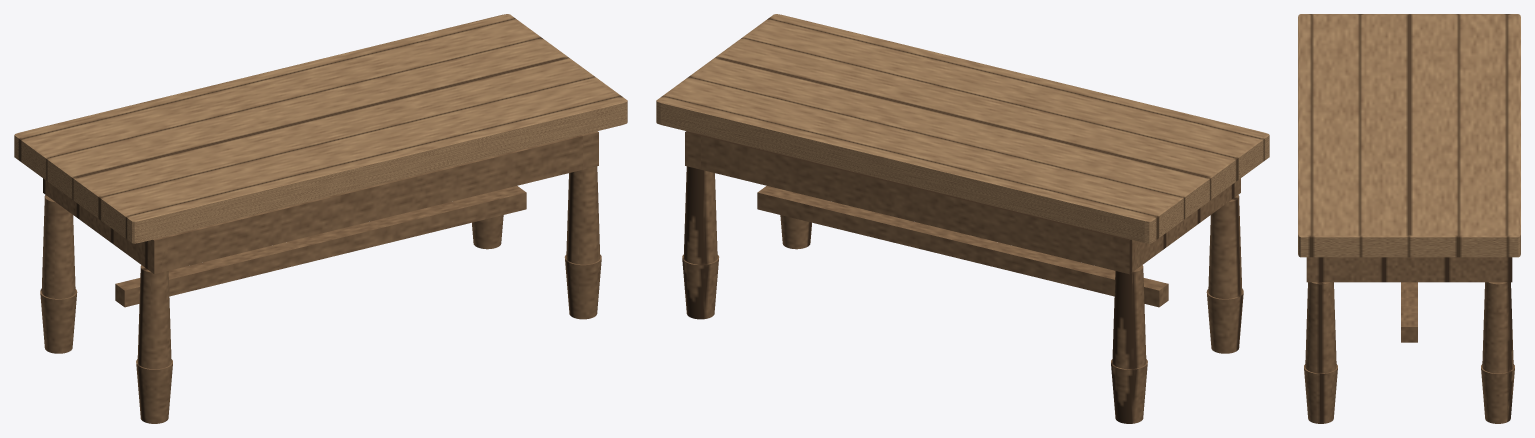
The model's file is table.glb.
3 renders of one model, left to right at view 1: azimuth 30°, elevation 25°; view 2: azimuth 150°, elevation 25°; view 3: azimuth 270°, elevation 25°, orthographic. The views are drawn at different scales.
Visible parts, largest first — view 1: t_top, t_leg_u.003; view 2: t_top, t_leg_u.003; view 3: t_top, t_leg_u.003.
Boxes of the visible parts, <box> form: t_top: <box>14,14,627,243</box>; t_leg_u.003: <box>40,131,601,423</box>; t_top: <box>656,14,1269,243</box>; t_leg_u.003: <box>682,131,1243,423</box>; t_top: <box>1298,14,1520,257</box>; t_leg_u.003: <box>1304,257,1514,423</box>.
Bounding box in the file's own units: 1.85 × 0.76 × 0.78.
2 materials, 2 textured.
